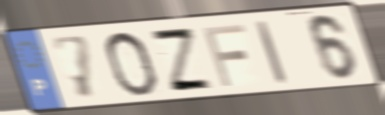6: (308, 13, 361, 83)
7: (49, 33, 98, 103)
F: (200, 22, 249, 89)
I: (253, 17, 291, 86)
O: (102, 29, 160, 99)
Z: (146, 27, 217, 93)
